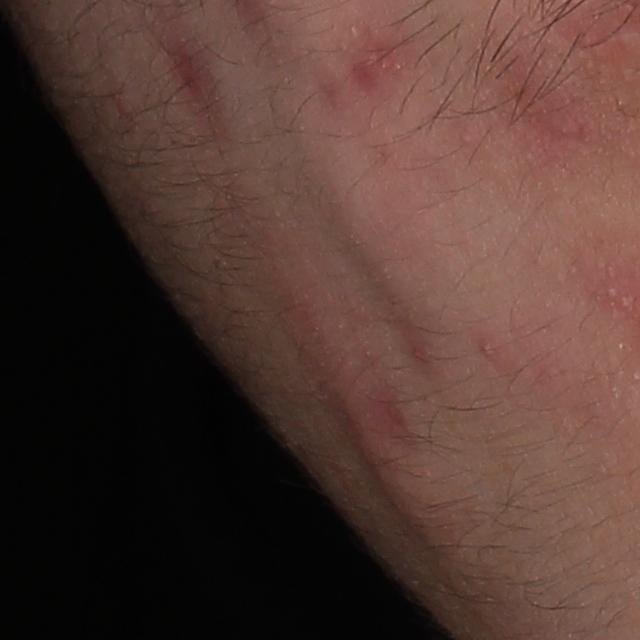atrophic_scar: (148, 5, 248, 147)
hypertrophic_scar: (300, 157, 460, 352), (312, 343, 454, 540)
